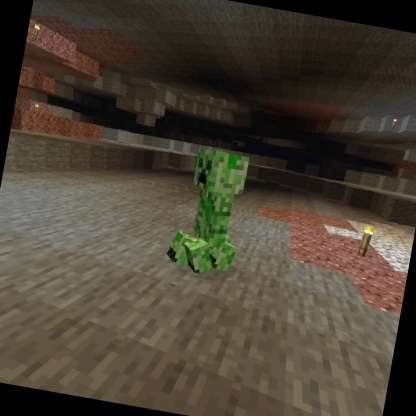creeper: (161, 142, 258, 285)
